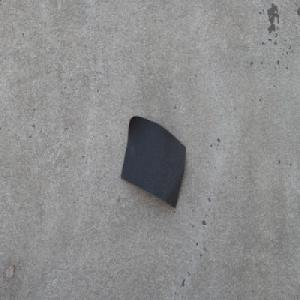PaintChip: (120, 115, 186, 209)
